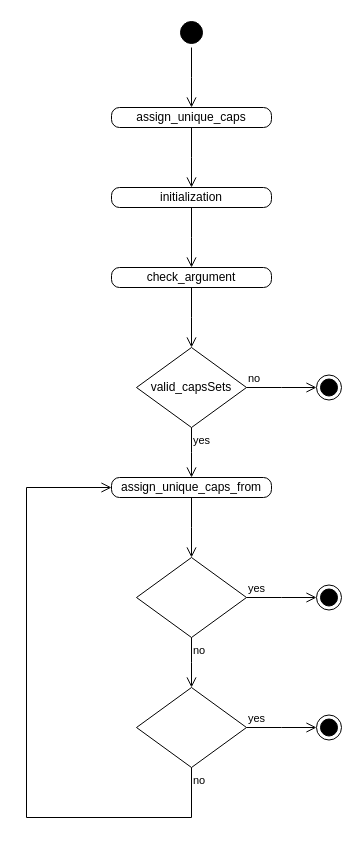
This 359x845 diagram has some shape labels left out. The shapes that lost their labels are listed below. From the top down, each one's box as (x1, y1, x2, y2) in pixels, then its label:
(136, 556, 246, 638): mask_is_full
(136, 686, 246, 768): cap_id > nbCaps
